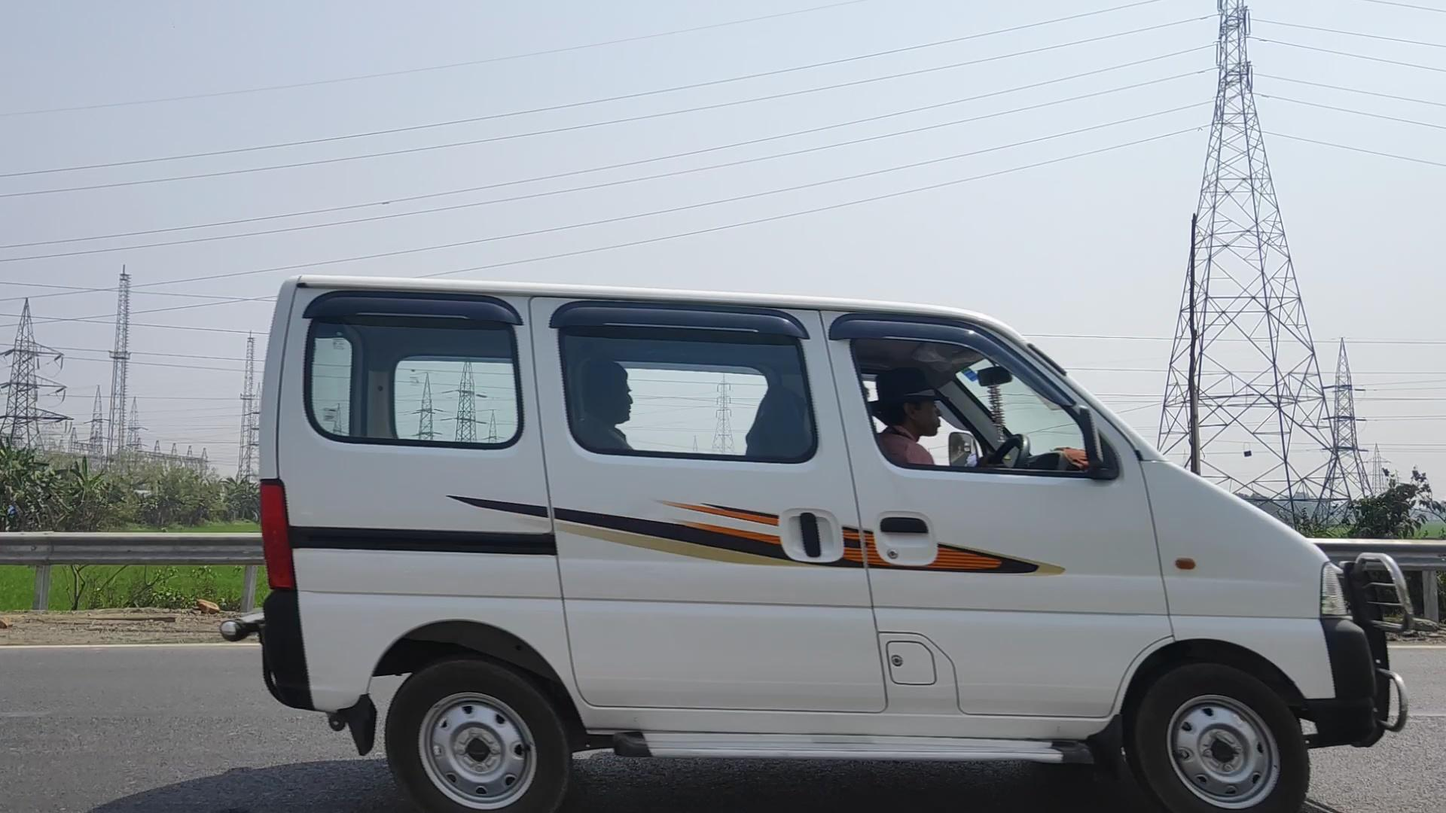van: (220, 273, 1419, 813)
